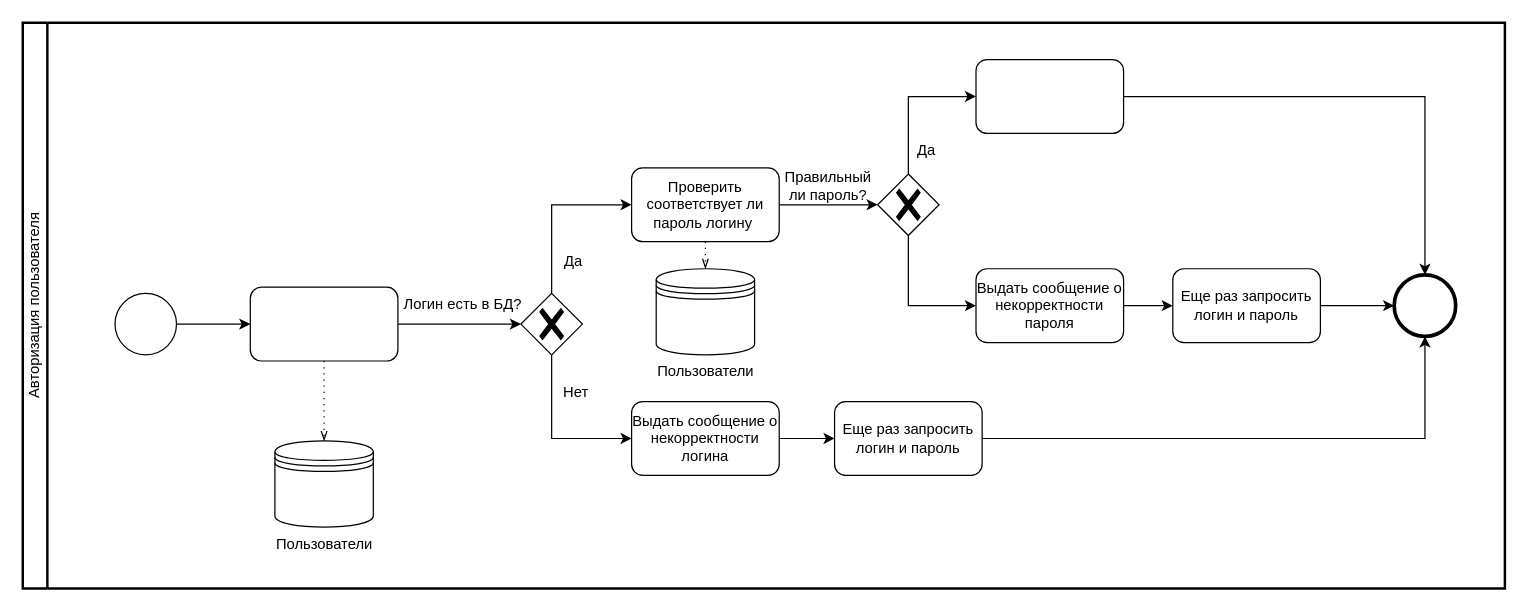
Image size: 1526x610. Some labels were removed from this diagram. Each missing label, with the centre of its shape:
"Дать доступ пользователю к личному кабинету" goes at point 1049,95.
"Пользователь ввел логин и пароль" goes at point 145,323.
"Проверить существует ли в БД указанный логин" goes at point 323,323.
